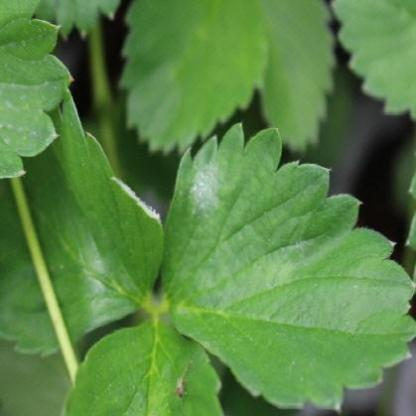Strawberry_Powdery_Mildew_Leaf: (160, 122, 415, 412), (0, 85, 165, 359)
